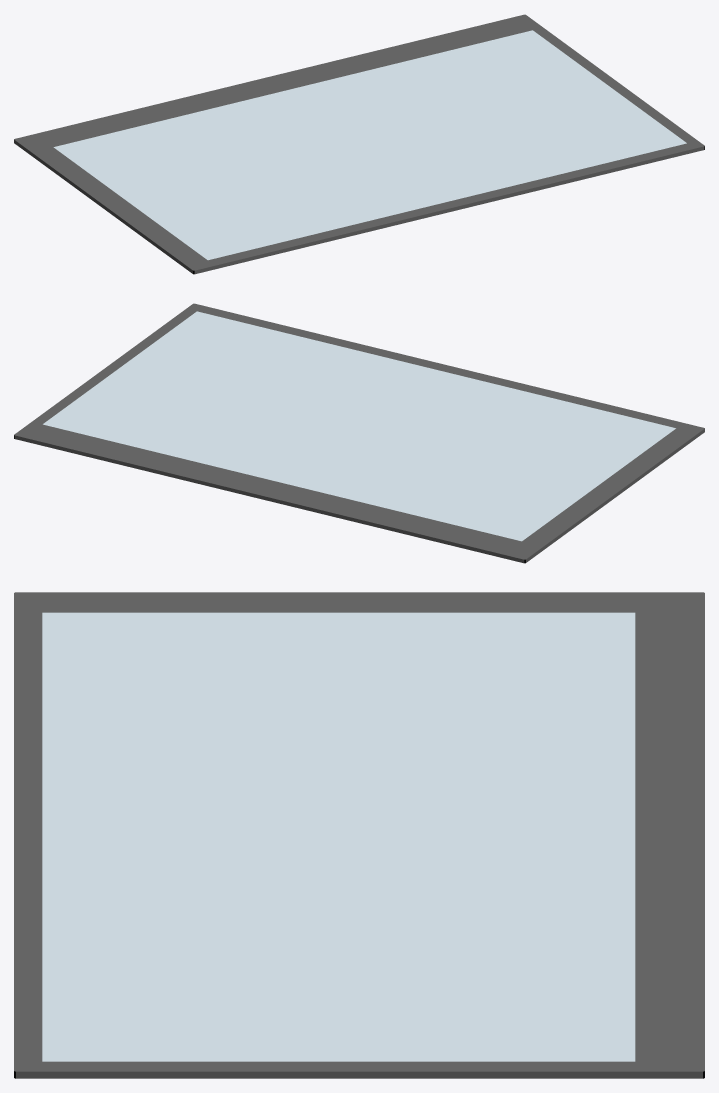
File: display.dae
3 views of the same model, one above another, from view 1: azimuth 30°, elevation 25°; view 2: azimuth 150°, elevation 25°; view 3: azimuth 270°, elevation 25° (orthographic). The views are drawn at different scales.
Parts seen in each view (by area): view 1: display; view 2: display; view 3: display.
Boxes of the visible parts, bbox=[...] form: display: bbox=[14, 14, 704, 274]; display: bbox=[14, 303, 704, 563]; display: bbox=[14, 592, 704, 1078].
Size of the model in its own units: 0.1647 by 0.1004 by 0.00113.
